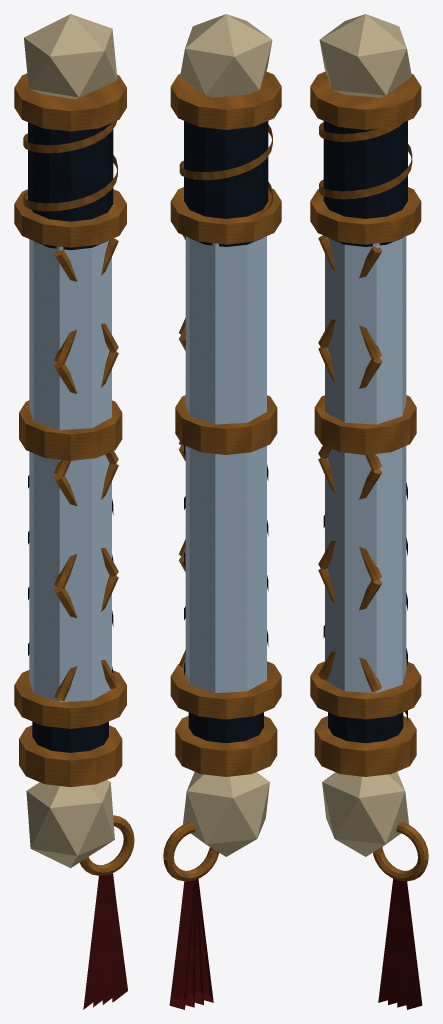
The model's file is mirrored-baton.glb.
The picture shows the model from 3 angles, left to right: view 1: azimuth 30°, elevation 25°; view 2: azimuth 210°, elevation 25°; view 3: azimuth 330°, elevation 25°; orthographic projection.
Parts seen in each view (by area): view 1: Eight_facet_mirror_shaft, Upper_navy_grip, Upper_ivory_endcap, Ivory_diamond_pommel, Baton_end_ferrule.002, Gold_grip_ferrule, Gold_grip_ferrule.001, Baton_end_ferrule, Baton_end_ferrule.001, Red_silk_tassel, Navy_wrapped_grip, Gold_cross_binding (+12 smaller); view 2: Eight_facet_mirror_shaft, Upper_navy_grip, Upper_ivory_endcap, Ivory_diamond_pommel, Baton_end_ferrule.002, Gold_grip_ferrule, Gold_grip_ferrule.001, Baton_end_ferrule, Baton_end_ferrule.001, Navy_wrapped_grip, Tassel_ring, Red_silk_tassel (+4 smaller); view 3: Eight_facet_mirror_shaft, Upper_navy_grip, Upper_ivory_endcap, Ivory_diamond_pommel, Baton_end_ferrule.002, Gold_grip_ferrule, Gold_grip_ferrule.001, Baton_end_ferrule, Baton_end_ferrule.001, Navy_wrapped_grip, Red_silk_tassel, Red_silk_tassel.002 (+12 smaller).
Part boxes in pixels (bbox=[...]): Eight_facet_mirror_shaft: bbox=[29, 239, 111, 702]; Upper_navy_grip: bbox=[28, 122, 113, 250]; Upper_ivory_endcap: bbox=[24, 14, 117, 99]; Ivory_diamond_pommel: bbox=[26, 780, 114, 868]; Baton_end_ferrule.002: bbox=[14, 73, 126, 131]; Gold_grip_ferrule: bbox=[19, 725, 122, 787]; Gold_grip_ferrule.001: bbox=[19, 400, 122, 460]; Baton_end_ferrule: bbox=[14, 670, 126, 728]; Baton_end_ferrule.001: bbox=[14, 189, 126, 247]; Red_silk_tassel: bbox=[83, 874, 110, 1009]; Navy_wrapped_grip: bbox=[32, 721, 108, 752]; Gold_cross_binding: bbox=[23, 121, 117, 211]; Eight_facet_mirror_shaft: bbox=[185, 236, 266, 692]; Upper_navy_grip: bbox=[184, 121, 268, 246]; Upper_ivory_endcap: bbox=[180, 14, 272, 97]; Ivory_diamond_pommel: bbox=[183, 772, 269, 856]; Baton_end_ferrule.002: bbox=[170, 71, 281, 129]; Gold_grip_ferrule: bbox=[175, 716, 277, 776]; Gold_grip_ferrule.001: bbox=[175, 395, 277, 454]; Baton_end_ferrule: bbox=[170, 661, 281, 719]; Baton_end_ferrule.001: bbox=[170, 187, 281, 244]; Navy_wrapped_grip: bbox=[188, 712, 263, 743]; Tassel_ring: bbox=[163, 822, 219, 881]; Red_silk_tassel: bbox=[186, 879, 213, 1002]; Eight_facet_mirror_shaft: bbox=[325, 236, 406, 692]; Upper_navy_grip: bbox=[323, 121, 407, 246]; Upper_ivory_endcap: bbox=[319, 14, 411, 97]; Ivory_diamond_pommel: bbox=[322, 772, 408, 856]; Baton_end_ferrule.002: bbox=[310, 71, 421, 129]; Gold_grip_ferrule: bbox=[314, 716, 416, 776]; Gold_grip_ferrule.001: bbox=[314, 395, 416, 454]; Baton_end_ferrule: bbox=[310, 661, 421, 719]; Baton_end_ferrule.001: bbox=[310, 187, 421, 244]; Navy_wrapped_grip: bbox=[328, 712, 403, 743]; Red_silk_tassel: bbox=[378, 878, 404, 1002]; Red_silk_tassel.002: bbox=[395, 880, 412, 1007].
Bounding box in the file's own units: 0.0575 × 0.49 × 0.05.
5 materials, 5 textured.
